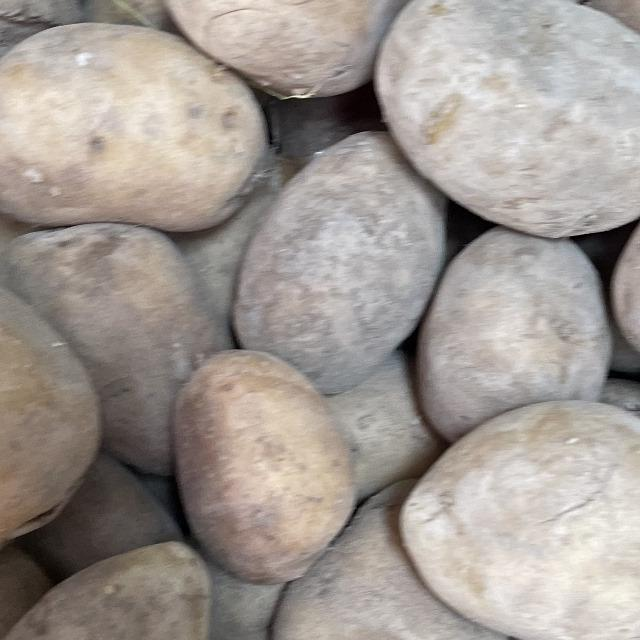potato: (0, 0, 275, 245), (370, 0, 640, 245), (392, 390, 640, 640), (140, 320, 365, 590), (0, 205, 122, 572), (162, 0, 437, 107)
